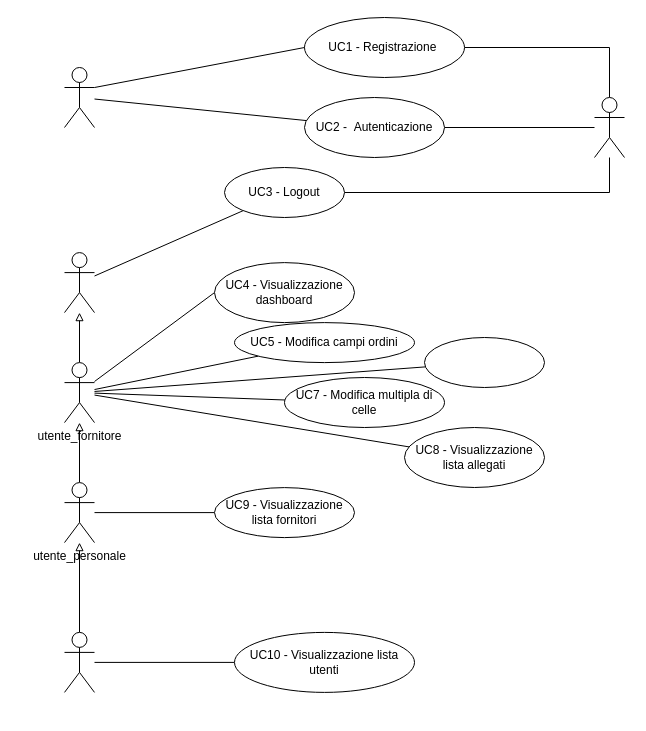
Image size: 646x731. Some labels were removed from this diagram. The box of each missing label's shape, as (x1, y1, x2, y2) in pixels:
Google: (594, 96, 624, 158)
UC6 - Ricerca mediante filtri: (424, 336, 544, 388)
utente_admin: (64, 631, 94, 692)
utente_non_autenticato: (64, 66, 94, 128)
utente_non_autorizzato: (64, 252, 94, 313)
